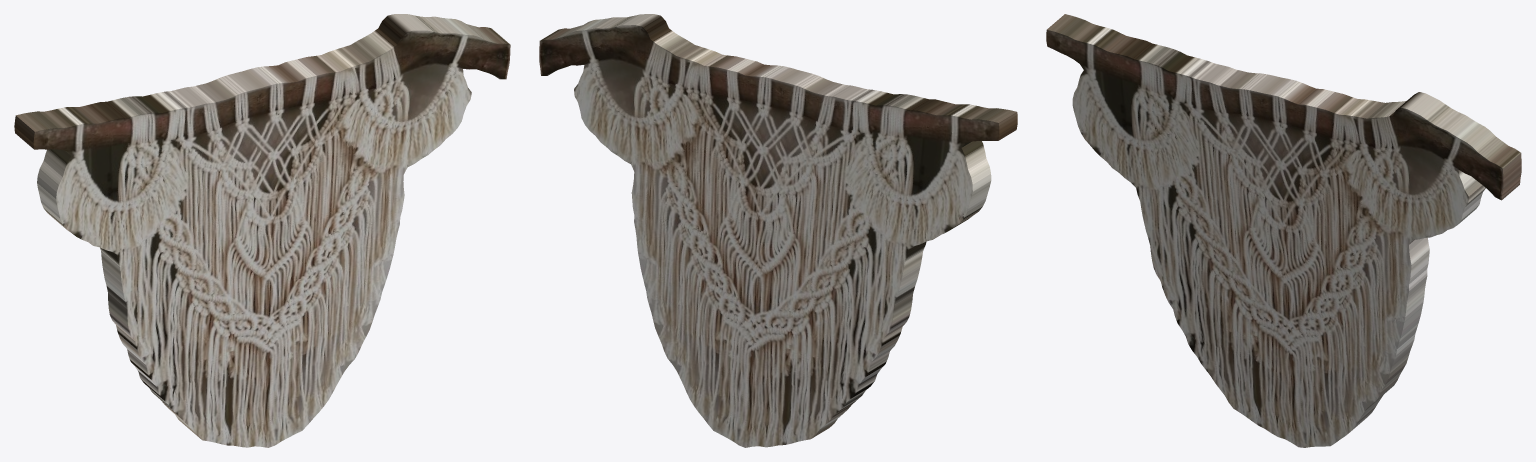
3 views of the same model, side by side, from view 1: azimuth 30°, elevation 25°; view 2: azimuth 150°, elevation 25°; view 3: azimuth 330°, elevation 25° (orthographic). The views are drawn at different scales.
Size of the model in its own units: 0.8 by 0.6395 by 0.1007.
1 material, 1 textured.
